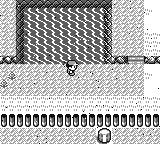captura: (24, 9, 104, 64)
main: (66, 60, 79, 76)
mo: (19, 0, 112, 63)
no-caminable: (0, 113, 159, 127), (96, 128, 113, 144)
salto: (0, 56, 16, 64), (144, 56, 159, 64), (112, 56, 127, 63)
